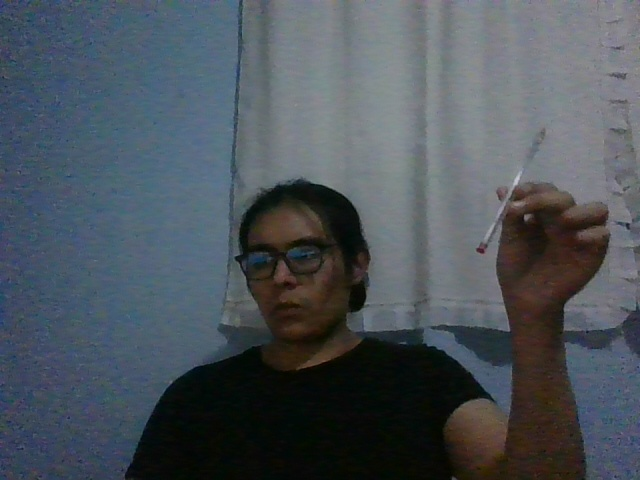pluma: (475, 127, 545, 254)
